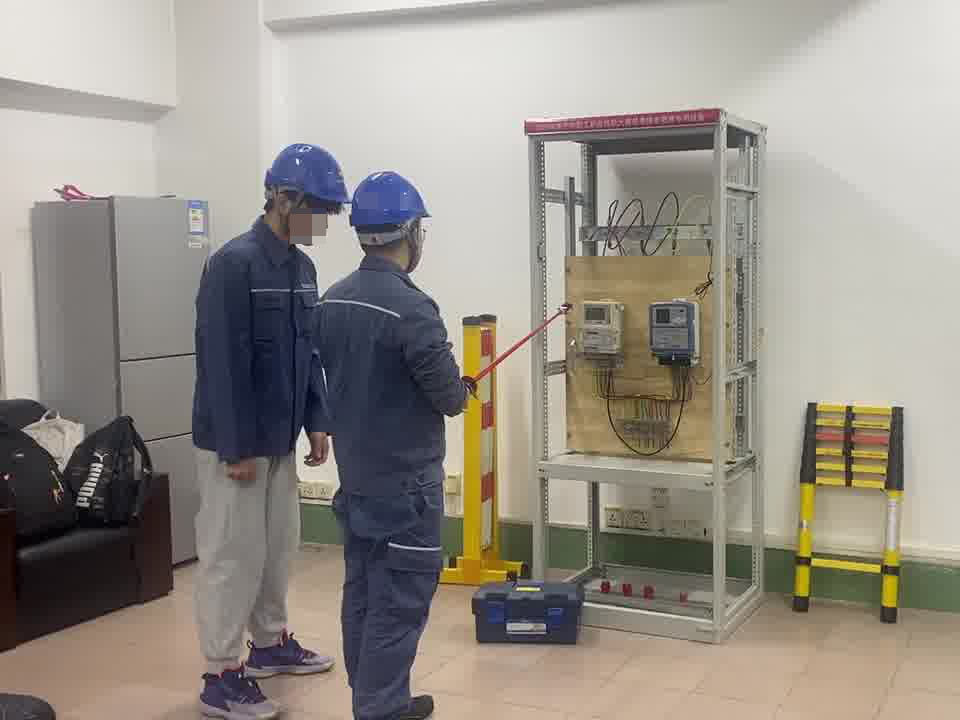downcloth: (193, 469, 302, 655)
downsuit: (334, 489, 447, 720)
halt: (262, 144, 348, 245), (349, 170, 434, 265)
hand: (302, 433, 331, 468), (223, 457, 257, 482)
inear: (271, 181, 303, 235)
person: (186, 140, 349, 716), (315, 163, 474, 719)
testrod: (463, 302, 576, 398)
upsuit: (316, 258, 466, 480), (190, 229, 314, 458)
